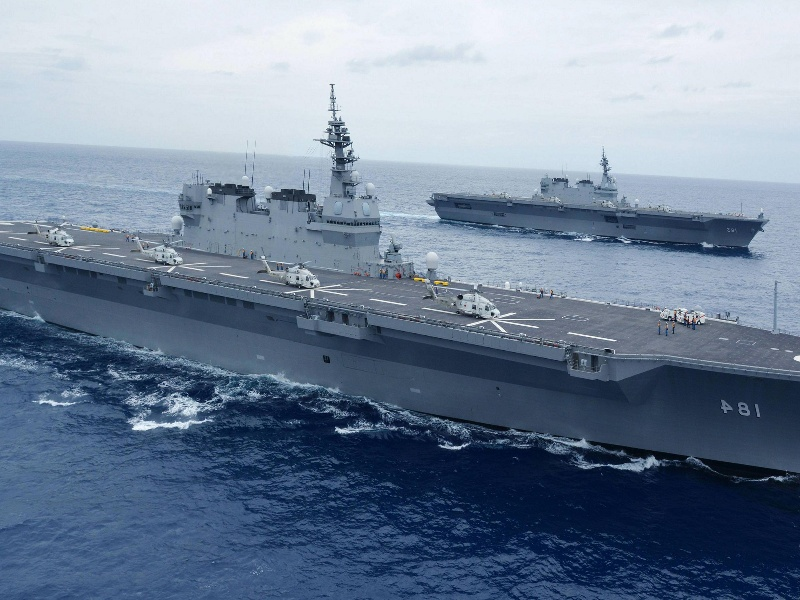carrier: (7, 170, 796, 485), (424, 146, 771, 258)
